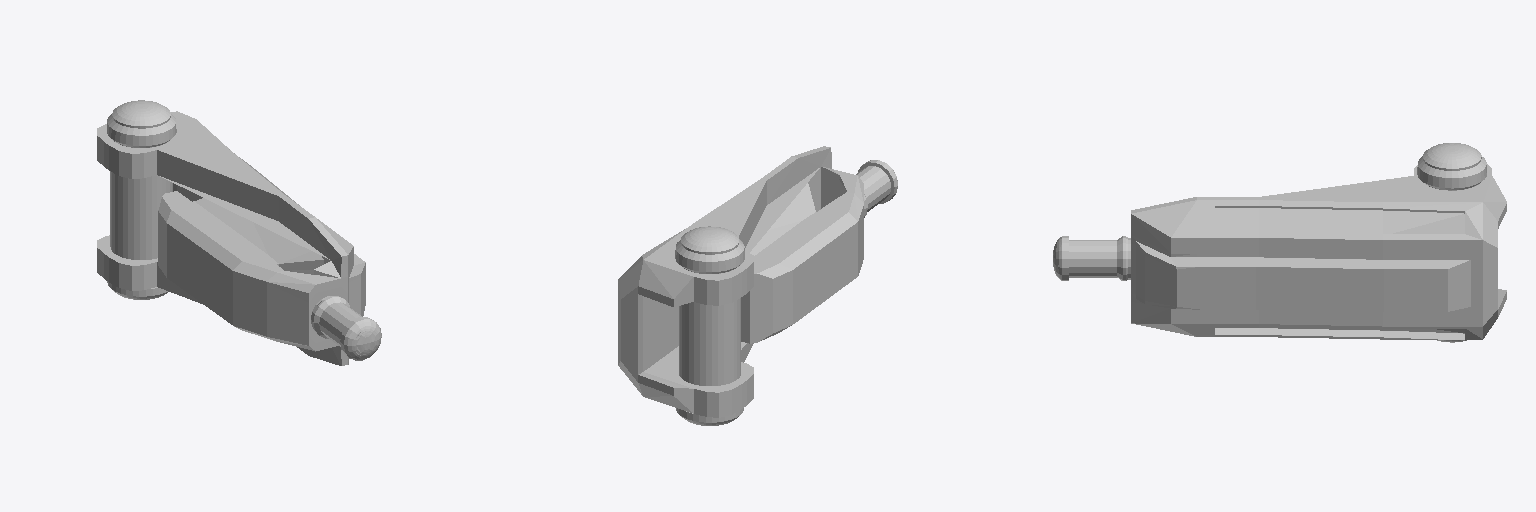
File: arm_l_03.obj
3 views of the same model, side by side, from view 1: azimuth 30°, elevation 25°; view 2: azimuth 150°, elevation 25°; view 3: azimuth 270°, elevation 25° (orthographic).
Visible parts, largest first — view 1: arm_l_03_Cube.004; view 2: arm_l_03_Cube.004; view 3: arm_l_03_Cube.004.
Boxes of the visible parts, x1=… form: arm_l_03_Cube.004: x1=97, y1=100, x2=381, y2=365; arm_l_03_Cube.004: x1=618, y1=146, x2=897, y2=425; arm_l_03_Cube.004: x1=1053, y1=143, x2=1506, y2=342.
Bounding box in the file's own units: 0.294 × 0.4154 × 0.9153.